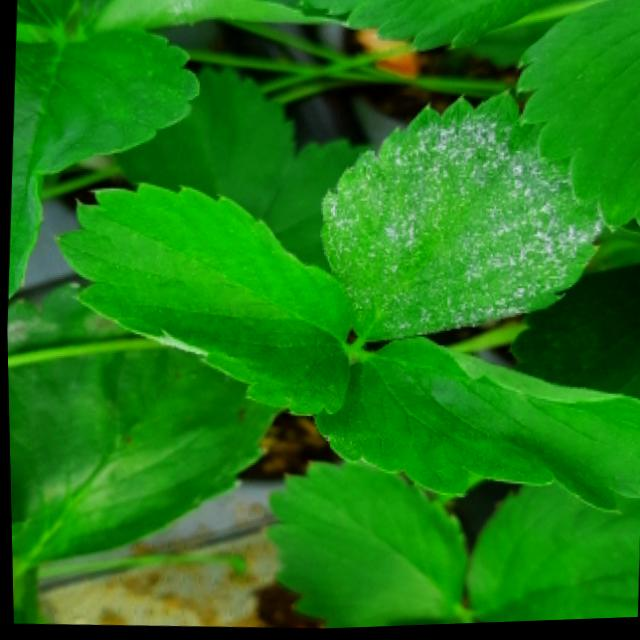Powdery Mildew Leaf: (48, 181, 350, 420), (318, 92, 601, 344), (6, 28, 199, 300), (70, 0, 356, 35)
